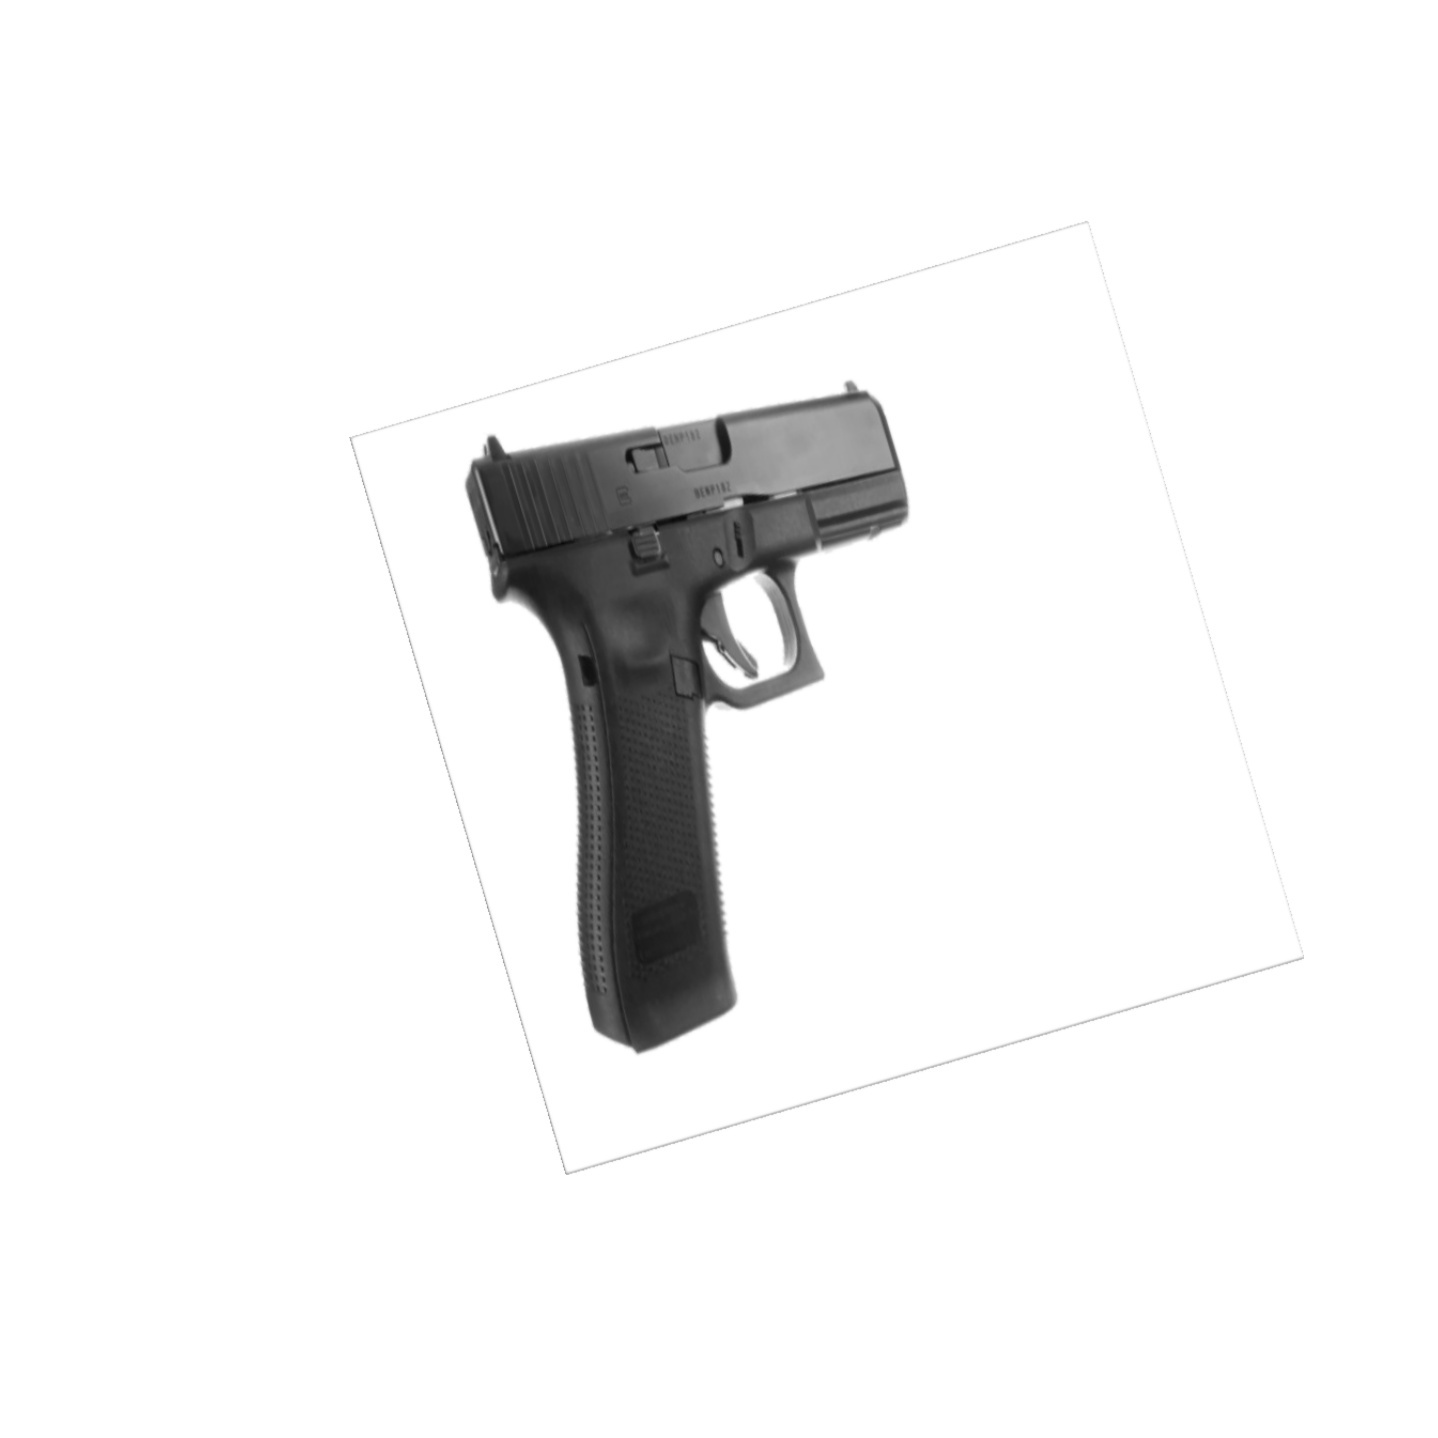gun: (452, 379, 913, 1051)
